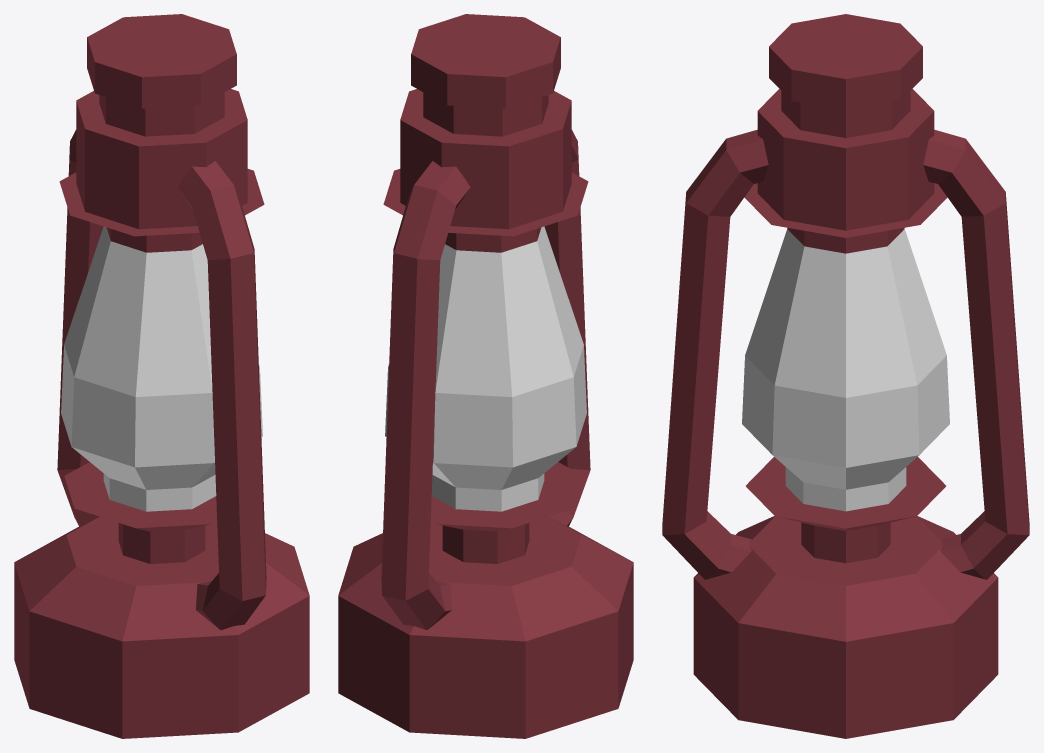
File: lantern.fbx
3 renders of one model, left to right at view 1: azimuth 30°, elevation 25°; view 2: azimuth 150°, elevation 25°; view 3: azimuth 270°, elevation 25°, orthographic.
Visible parts, largest first — view 1: Cylinder; view 2: Cylinder; view 3: Cylinder.
Boxes of the visible parts, box(x1,y1,x2,y2) form: Cylinder: box(14, 14, 309, 738); Cylinder: box(338, 14, 633, 738); Cylinder: box(662, 14, 1029, 738).
Bounding box in the file's own units: 30.06 × 68.39 × 36.24.
